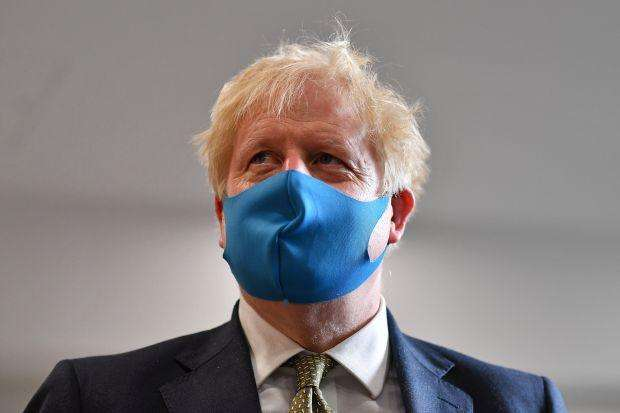mask: (222, 98, 386, 289)
